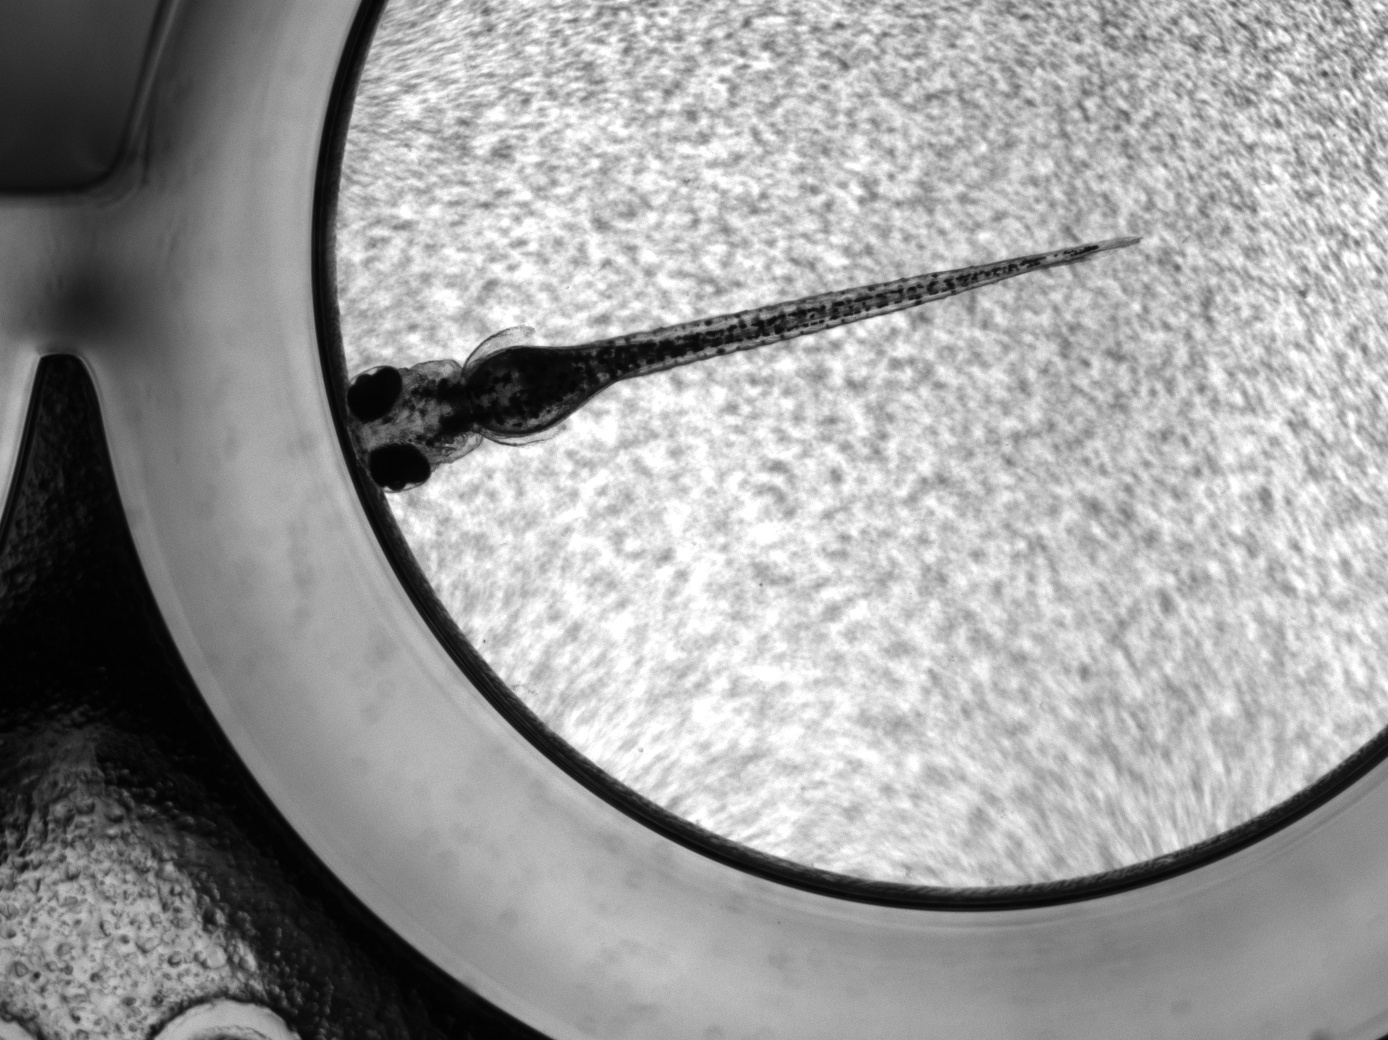embryo: (345, 235, 1143, 494)
eye: (345, 365, 402, 424), (367, 444, 431, 493)
yolksac: (463, 346, 601, 436)
